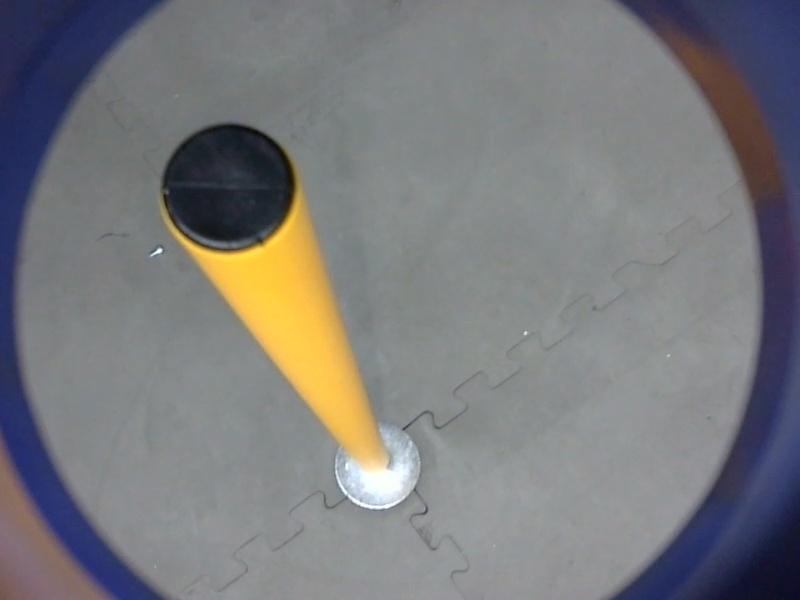tip: (150, 114, 308, 263)
